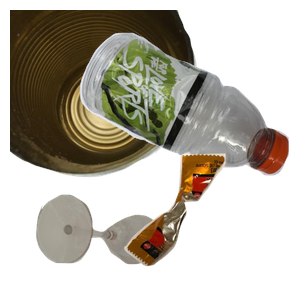glass: (34, 192, 187, 300)
metal: (10, 10, 200, 180)
plastic: (77, 30, 300, 198)
trash: (122, 151, 300, 300)
